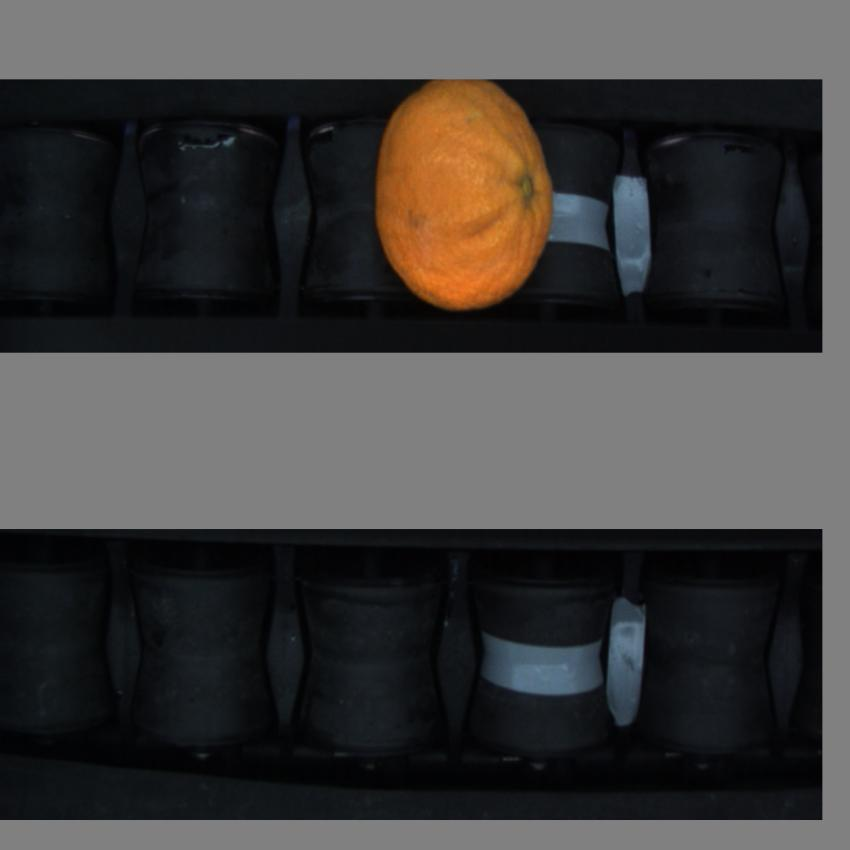Buen estado: (368, 82, 562, 310)
